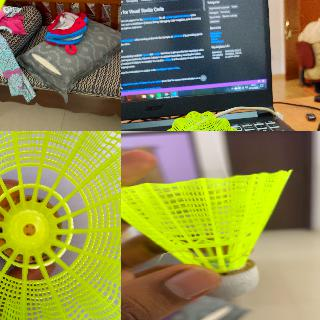shuttlecock: (0, 131, 120, 319), (121, 169, 292, 298), (156, 111, 247, 130)
